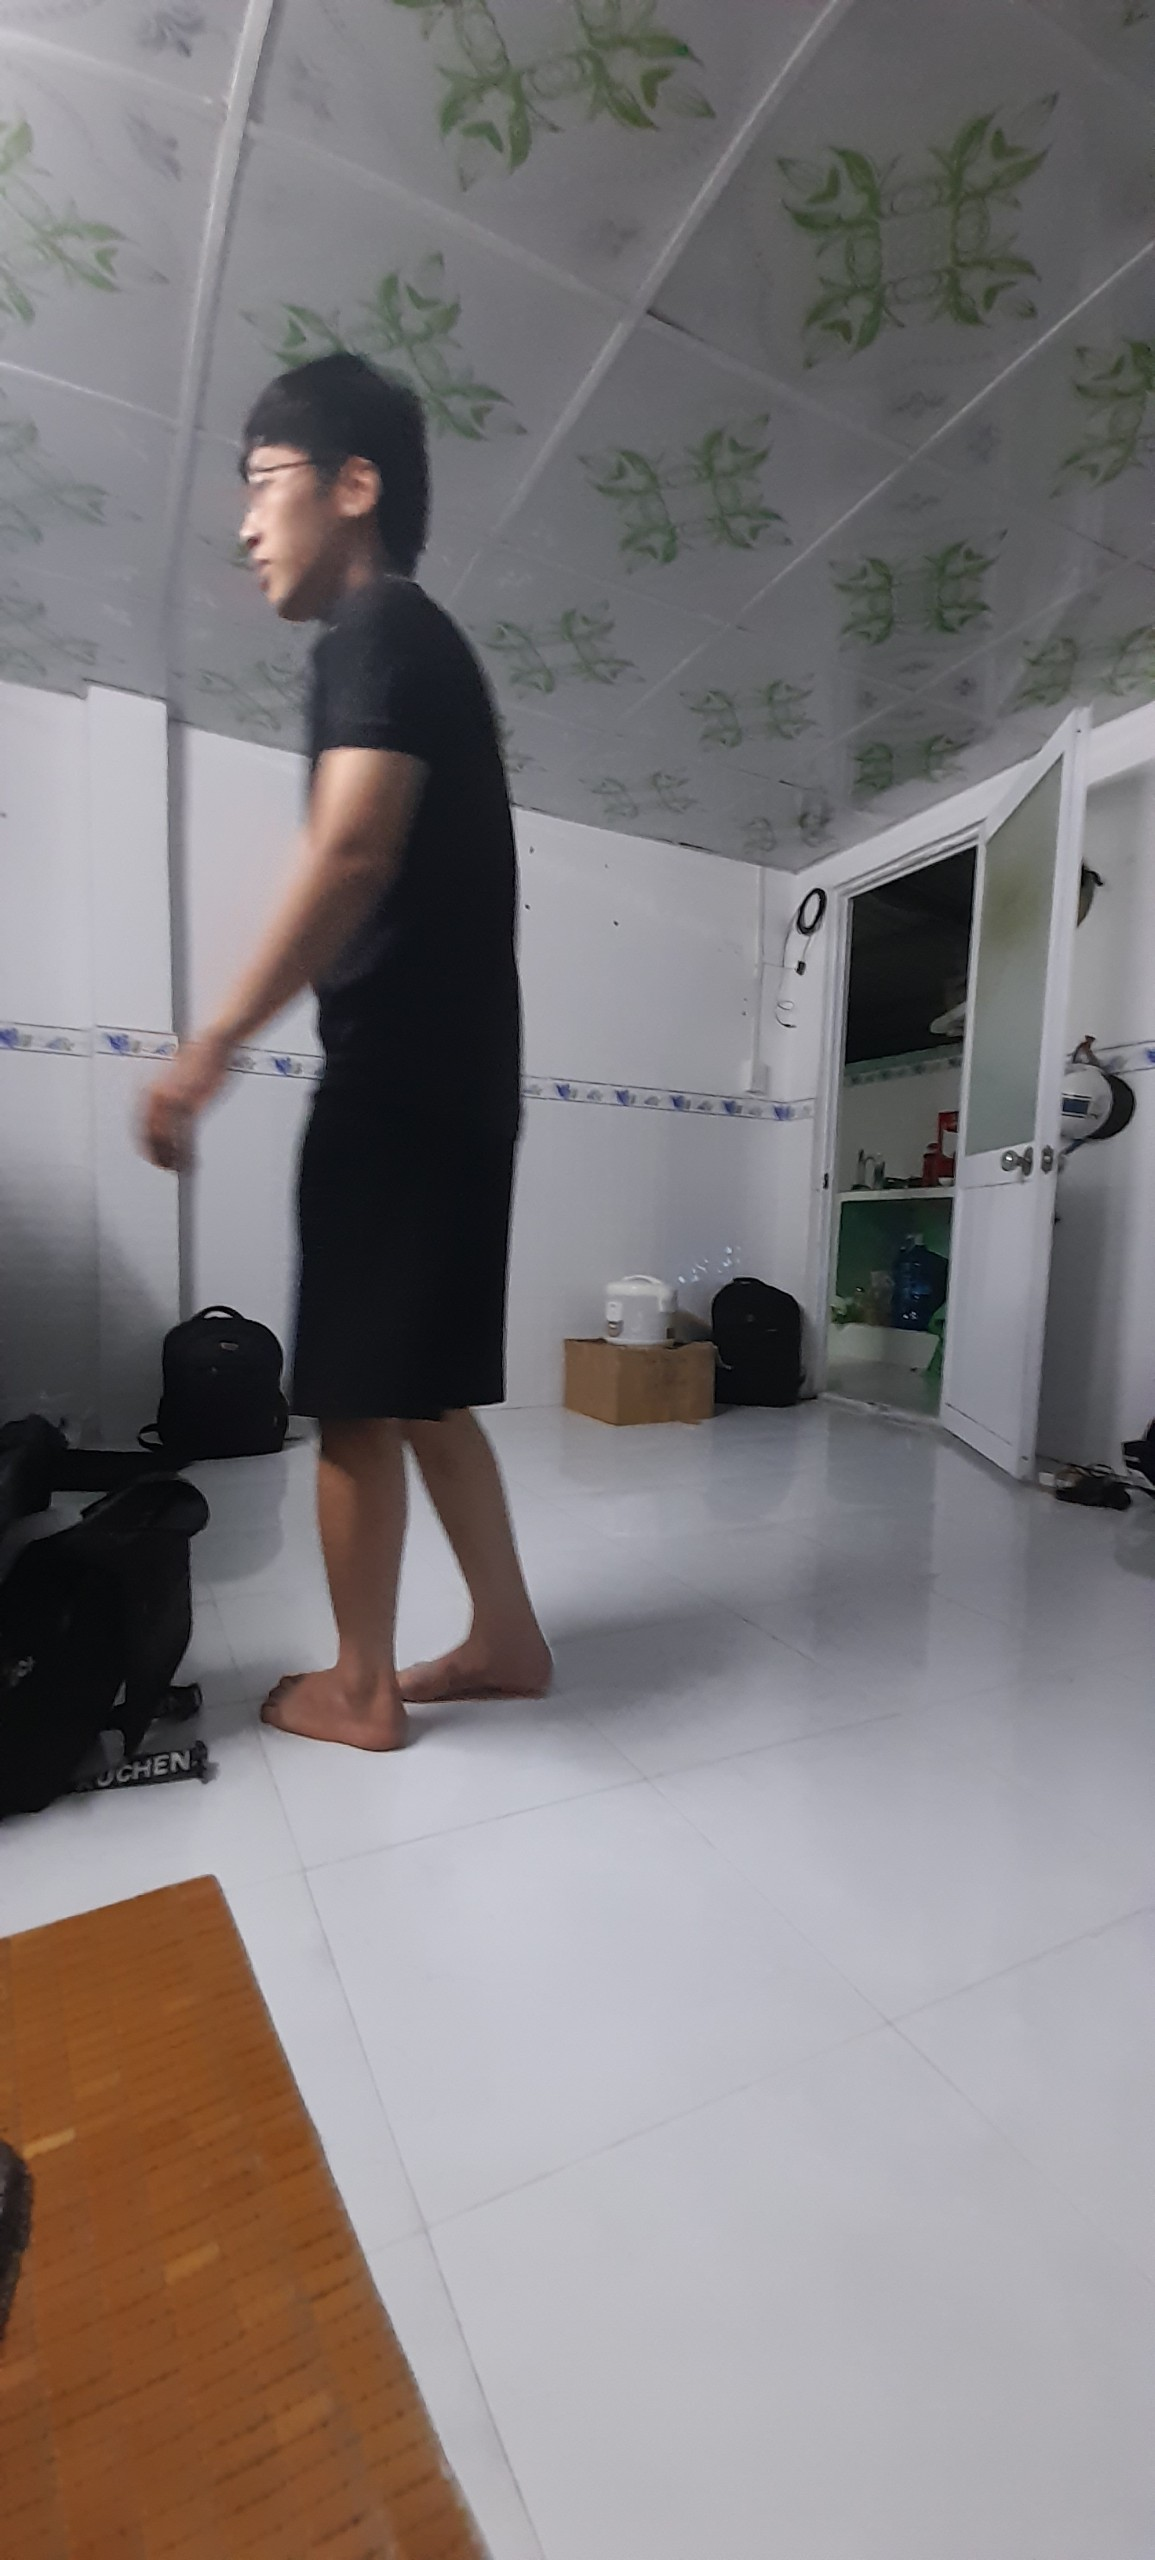person: (216, 357, 560, 1766)
